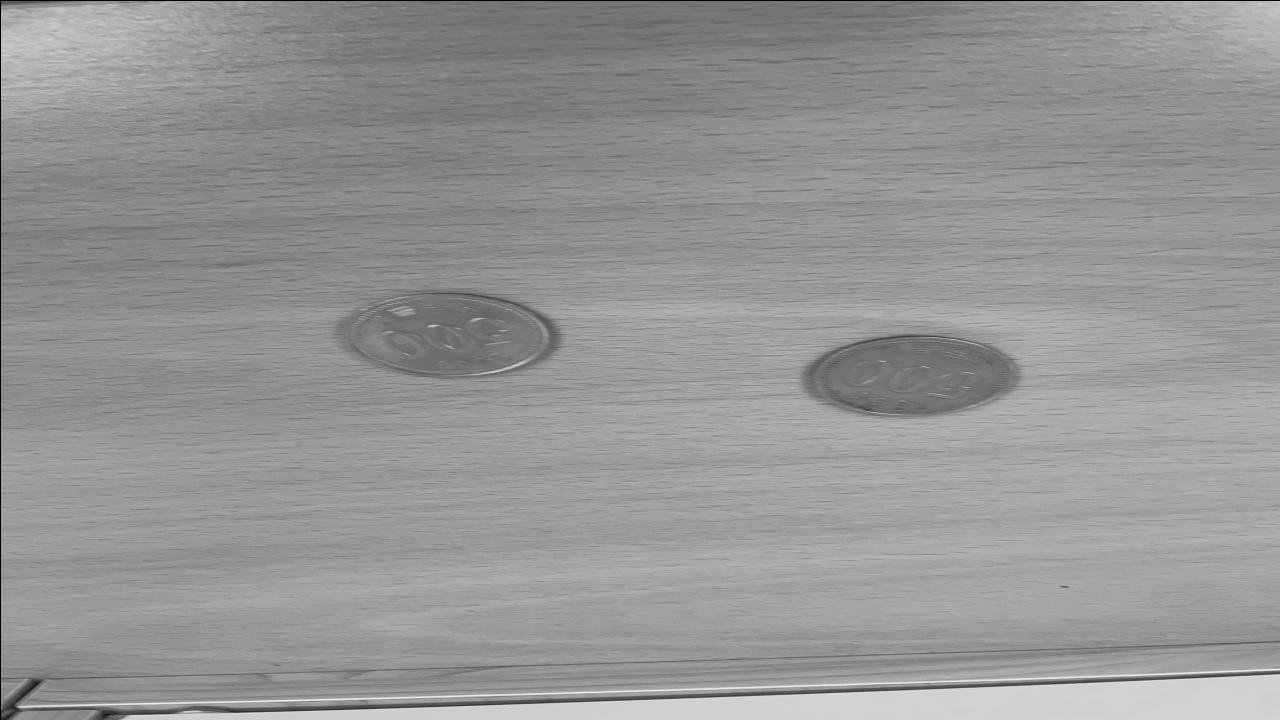coin: (803, 332, 1025, 419), (343, 292, 553, 376)
